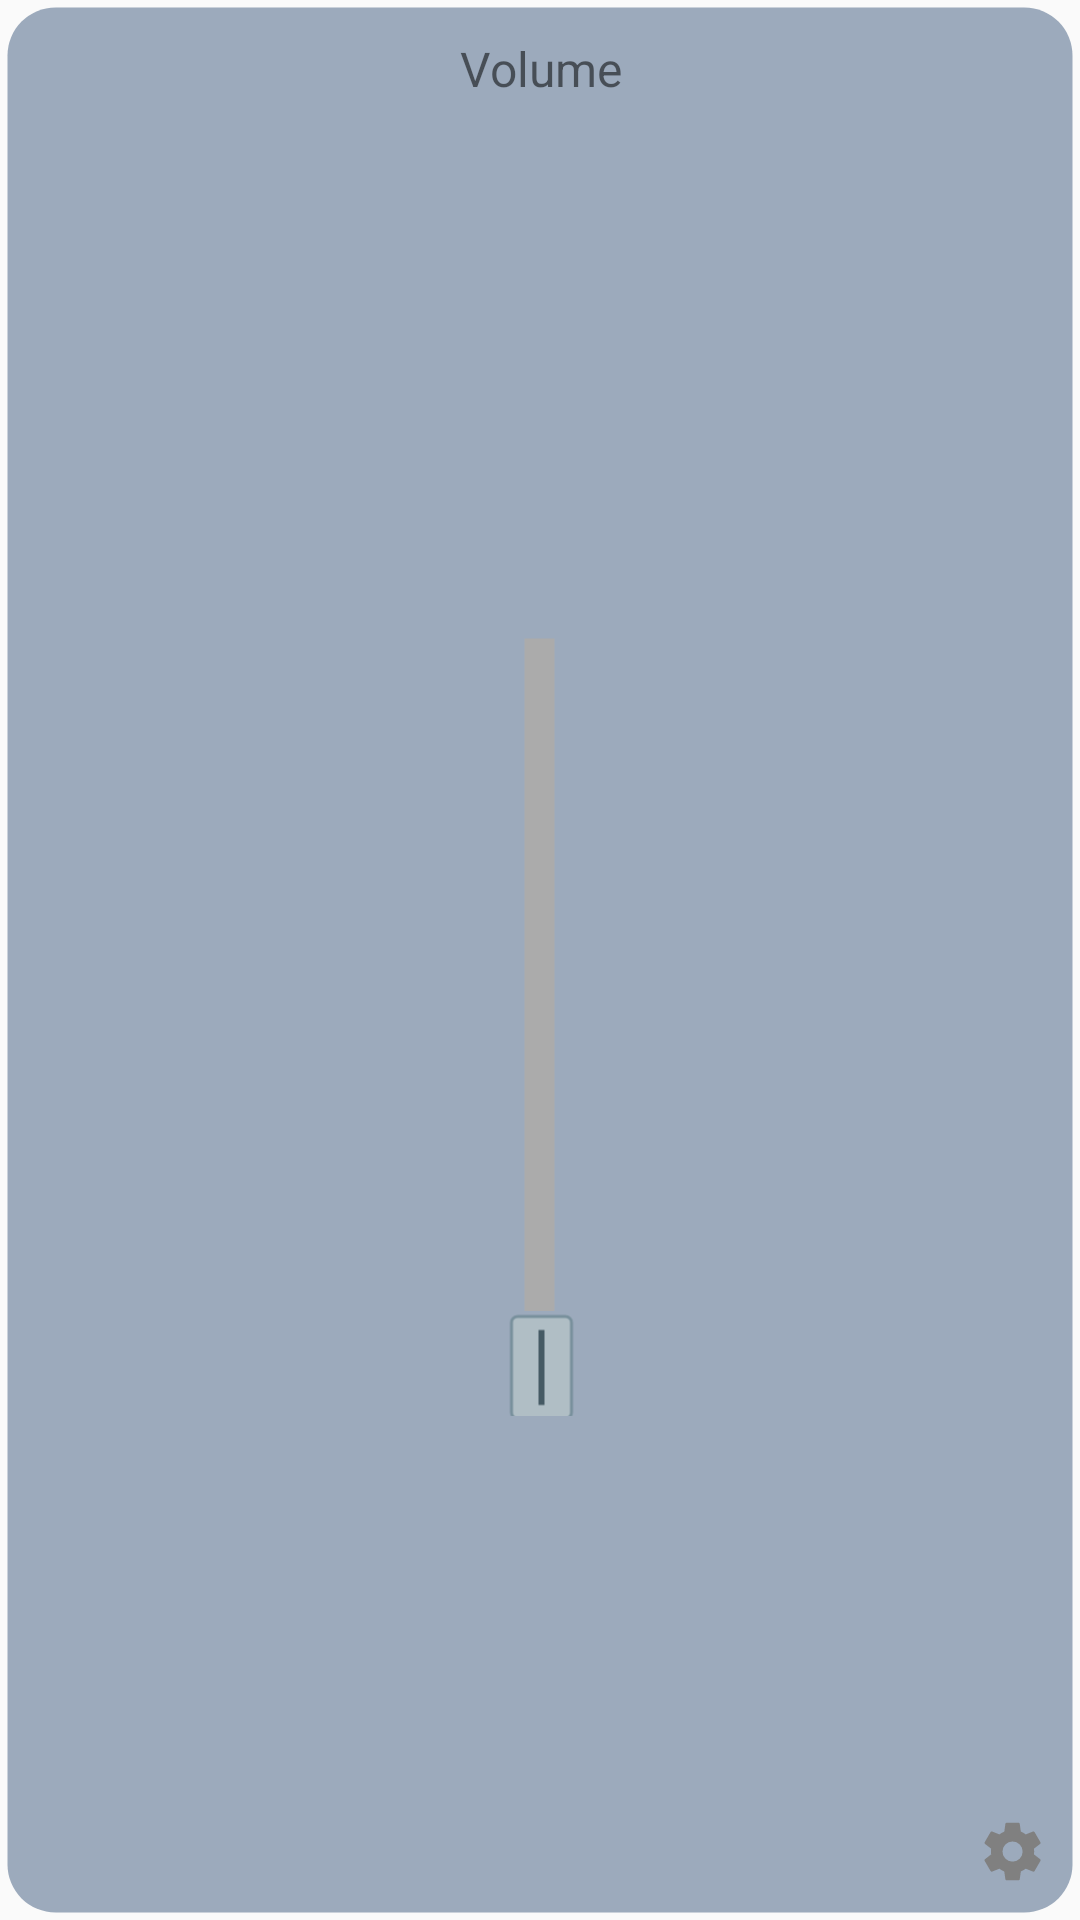

Point at icon controls on the screen. Image size 1080 x 1920, points as (x,y).
settings: (1012,1851)
